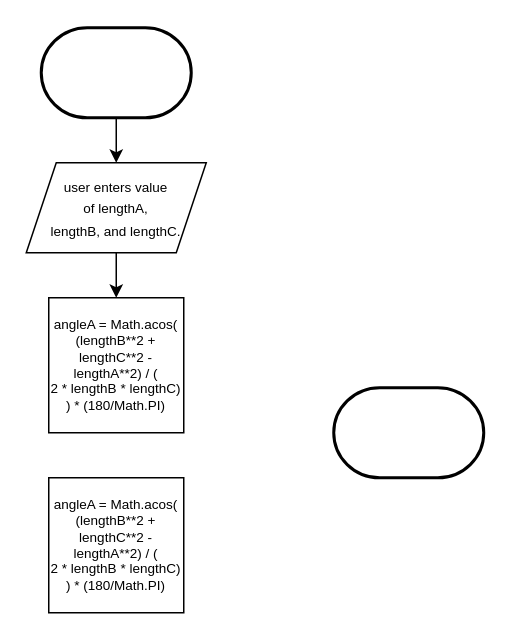
Image size: 512x639. Some labels were removed from this diagram. The shapes that lost their labels are listed below. From the top down, each one's box as (x1, y1, x2, y2) in pixels, then its label:
(39, 26, 192, 118): Start
(332, 386, 484, 478): Stop
